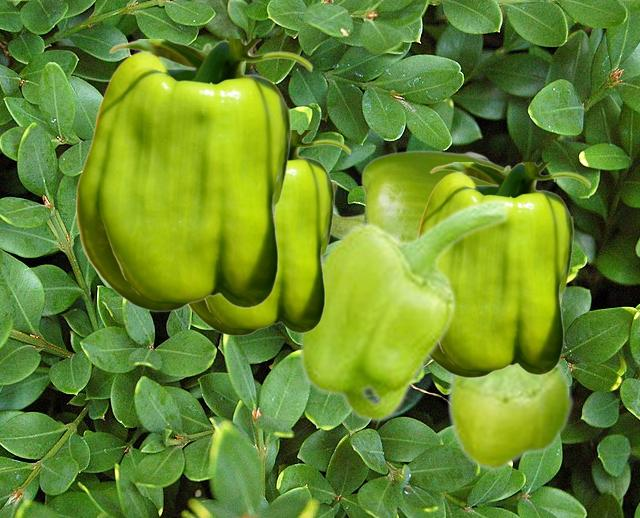bell_pepper: (75, 39, 312, 311), (297, 197, 511, 422), (418, 162, 590, 377), (188, 130, 350, 335), (331, 150, 504, 239), (446, 359, 573, 470)
